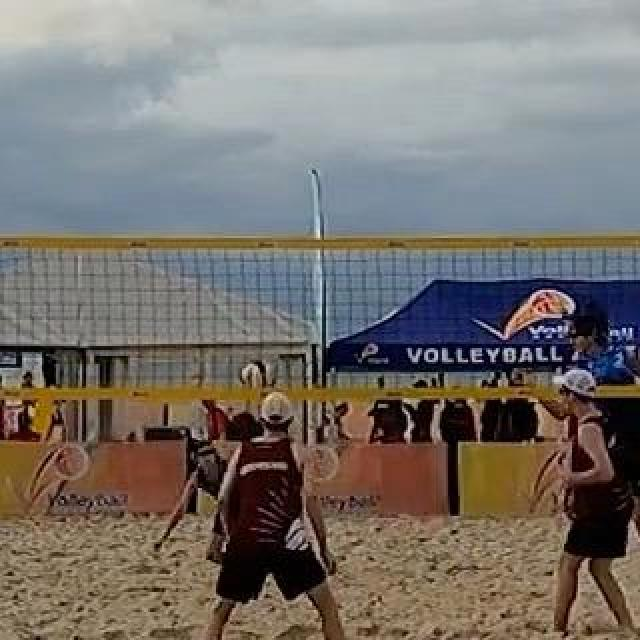volleyball: (240, 360, 274, 392)
